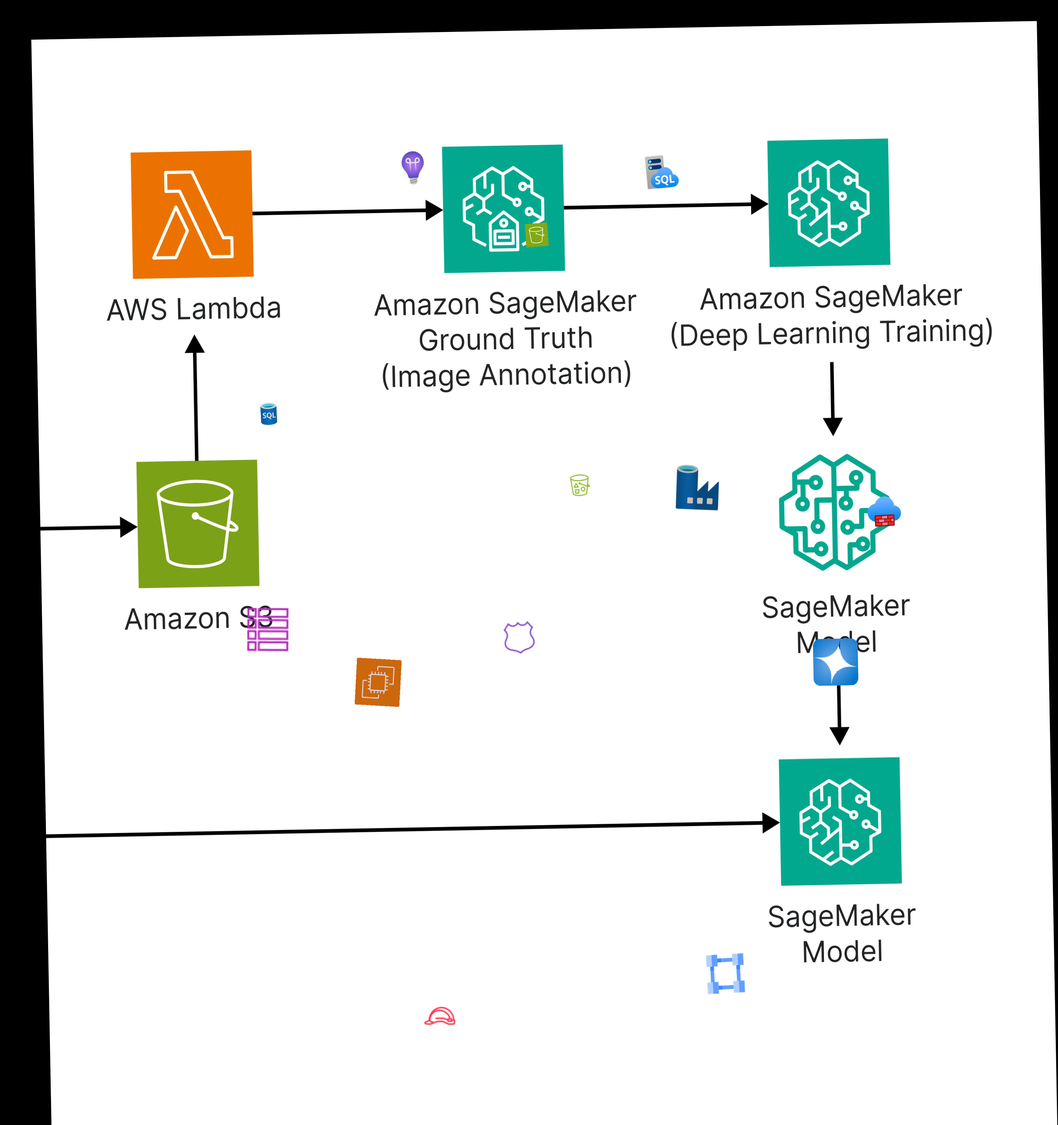aws_amazon_ec2: (353, 657, 403, 708)
aws_amazon_simple_storage_service: (525, 222, 549, 247)
aws_dynamodb_table: (244, 605, 291, 654)
aws_identity_access_management_role: (422, 997, 458, 1035)
aws_route_53_hosted_zone: (501, 618, 538, 657)
aws_simple_storage_service_bucket_with_objects: (568, 473, 592, 497)
azure_application_insights: (395, 149, 431, 186)
azure_data_factories: (673, 462, 721, 513)
azure_firewalls: (866, 493, 902, 530)
azure_openai: (812, 638, 859, 686)
azure_sql_database: (256, 401, 281, 426)
azure_sql_managed_instance: (643, 152, 680, 191)
gcp_virtual_private_cloud: (701, 949, 749, 999)
